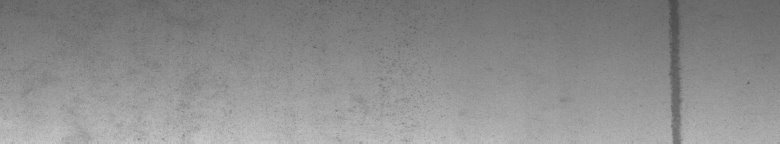hd: (665, 4, 685, 136)
